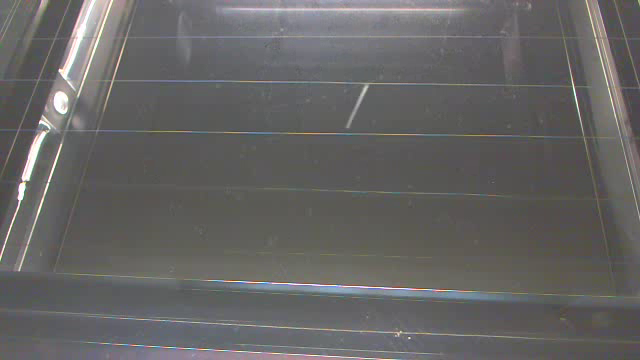Alfa: (346, 73, 369, 130)
